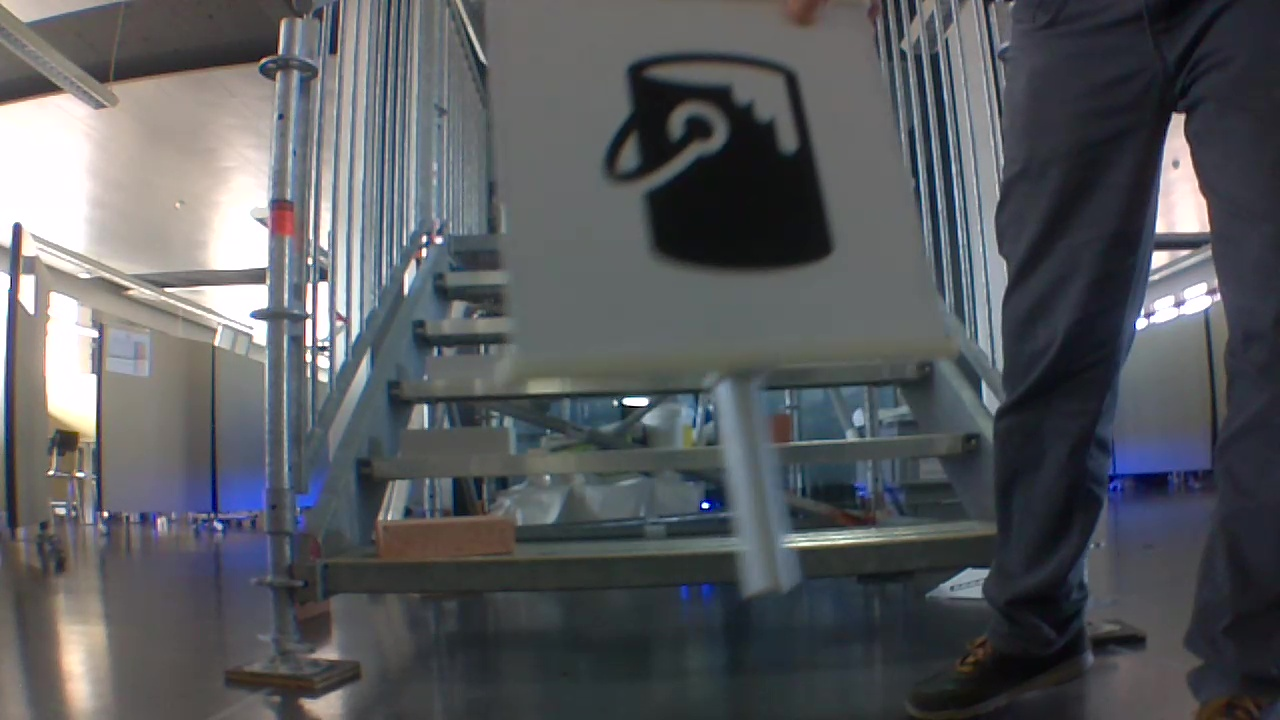brick: (372, 516, 513, 560), (400, 428, 509, 452), (430, 357, 497, 379)
bucket: (592, 47, 842, 283)
